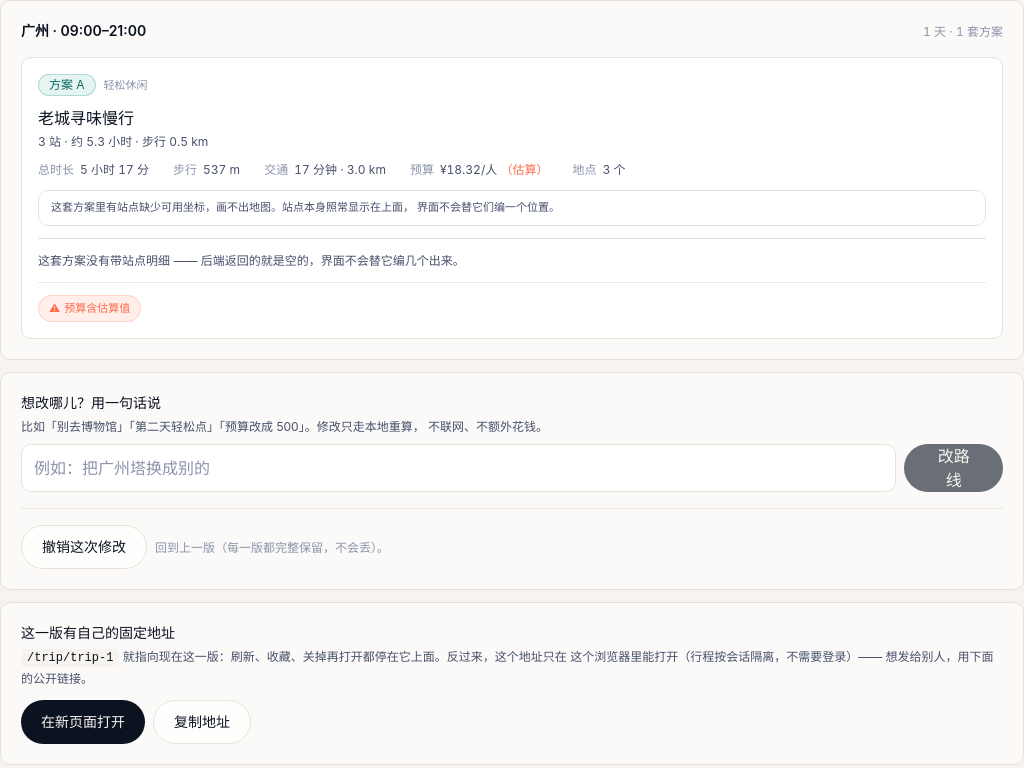
Scenario: 撤销 › ★ 已经是最早的版本时照原话说（这是边界，不是故障）
Expected: the element with test id "trip-result" is shown, [0,0,1023,360]
Click the button "撤销这次修改". click: point(84, 547)
box: [21,525,147,569]
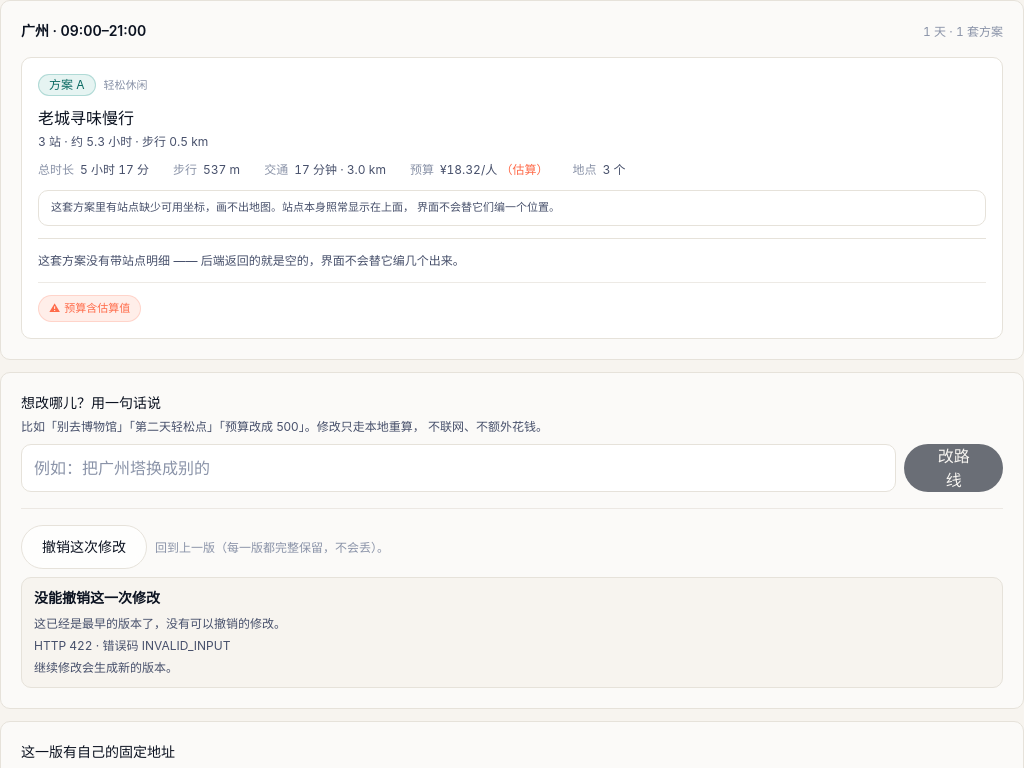
Result: the element with test id "undo-error" shows "这已经是最早的版本了" at [34,616,286,631]
Result: the element with test id "undo-error" shows "继续修改会生成新的版本" at [34,660,178,675]
Result: the element with test id "undo-error" shows "错误码 INVALID_INPUT" at [34,638,230,653]
